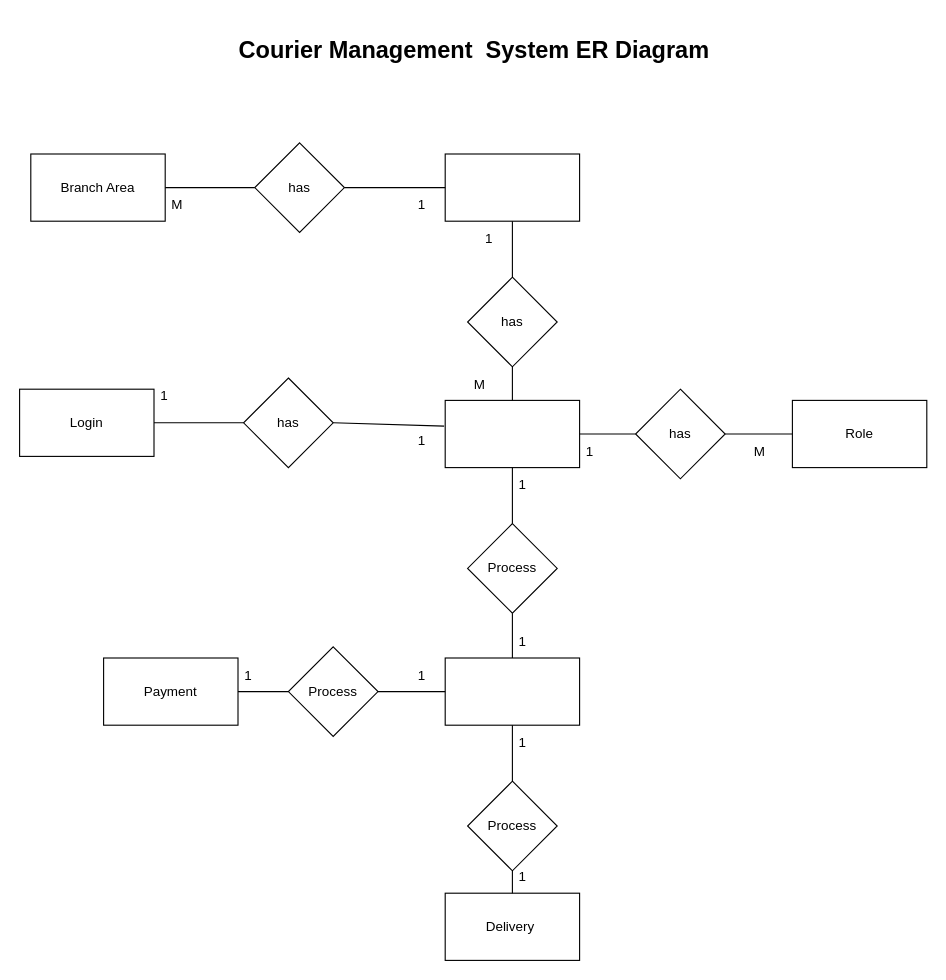
The diagram is 946 pixels wide and 980 high, and some of its shapes have lost their labels. Here are the shapes that lost their labels. From the top down, the centre of each, then its label:
At (512,187): "Branches".
At (512,433): "User".
At (512,691): "Order".
